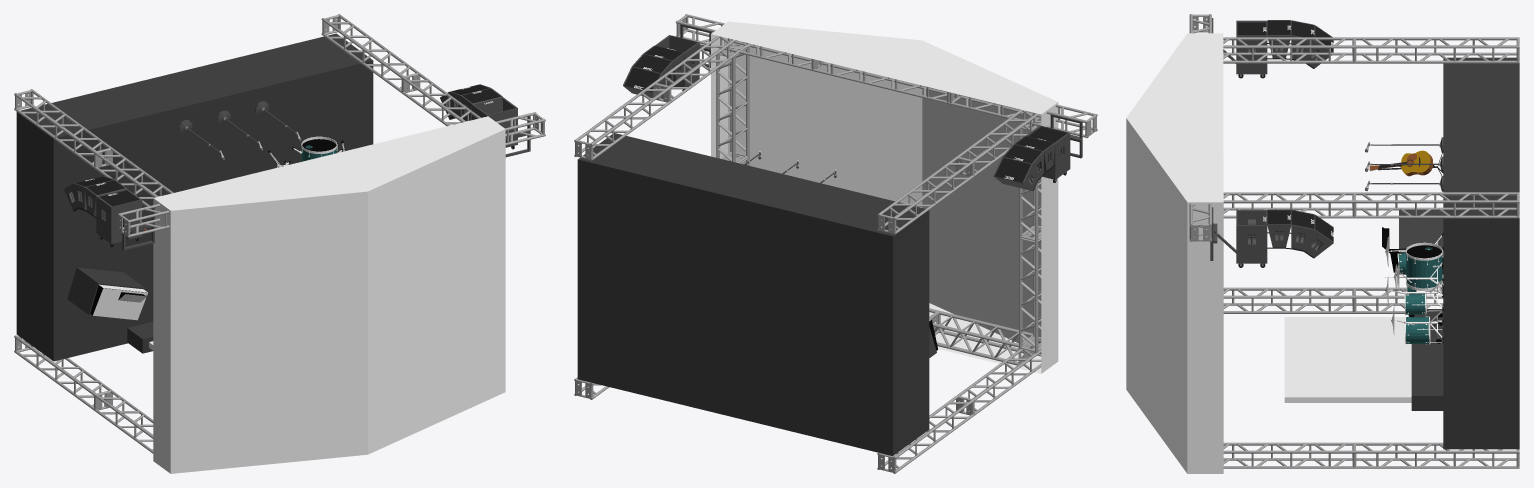
3 views of the same model, side by side, from view 1: azimuth 30°, elevation 25°; view 2: azimuth 150°, elevation 25°; view 3: azimuth 270°, elevation 25° (orthographic). The views are drawn at different scales.
Parts seen in each view (by area): view 1: Group_002, Group_001, subxalti 8, Group_697, Group_696, Group_694, Group_729, Group_732, alti400wat, alti400wa0, Component1, Group_737 (+1 smaller); view 2: Group_001, Group_002, Group_696, Group_695, alti400wa0, Group_697, Group_694, subxalti 8, alti400wat, Group_704, Group_710, Group_727; view 3: Group_002, Group_001, Group_736, Group_694, Group_697, Component1, Group_695, Group_696, subxalti 8, Group_737, alti400wa0, Group_729 (+2 smaller).
Boxes of the visible parts, bbox=[...] form: Group_002: bbox=[153, 116, 505, 473]; Group_001: bbox=[16, 33, 373, 361]; subxalti 8: bbox=[96, 97, 517, 243]; Group_697: bbox=[14, 18, 545, 438]; Group_696: bbox=[14, 33, 545, 453]; Group_694: bbox=[30, 14, 536, 423]; Group_729: bbox=[67, 267, 144, 315]; Group_732: bbox=[90, 285, 147, 320]; alti400wat: bbox=[84, 88, 502, 215]; alti400wa0: bbox=[64, 84, 490, 211]; Component1: bbox=[268, 136, 344, 167]; Group_737: bbox=[127, 322, 153, 353]; Group_001: bbox=[577, 133, 929, 455]; Group_002: bbox=[711, 21, 1058, 373]; Group_696: bbox=[590, 29, 1097, 473]; Group_695: bbox=[574, 35, 1088, 469]; alti400wa0: bbox=[623, 54, 1043, 190]; Group_697: bbox=[590, 14, 1097, 459]; Group_694: bbox=[574, 20, 1088, 455]; subxalti 8: bbox=[655, 35, 1070, 179]; alti400wat: bbox=[643, 45, 1055, 171]; Group_704: bbox=[585, 45, 1096, 472]; Group_710: bbox=[575, 43, 1091, 470]; Group_727: bbox=[629, 41, 1034, 432]; Group_002: bbox=[1126, 33, 1223, 473]; Group_001: bbox=[1443, 57, 1519, 449]; Group_736: bbox=[1284, 317, 1411, 402]; Group_694: bbox=[1208, 14, 1519, 453]; Group_697: bbox=[1189, 14, 1519, 445]; Component1: bbox=[1385, 233, 1443, 344]; Group_695: bbox=[1208, 60, 1519, 468]; Group_696: bbox=[1189, 52, 1516, 460]; subxalti 8: bbox=[1236, 20, 1267, 263]; Group_737: bbox=[1411, 309, 1443, 410]; alti400wa0: bbox=[1291, 20, 1333, 257]; Group_729: bbox=[1399, 210, 1443, 274].
Size of the model in its own units: 309 by 186 by 244.
